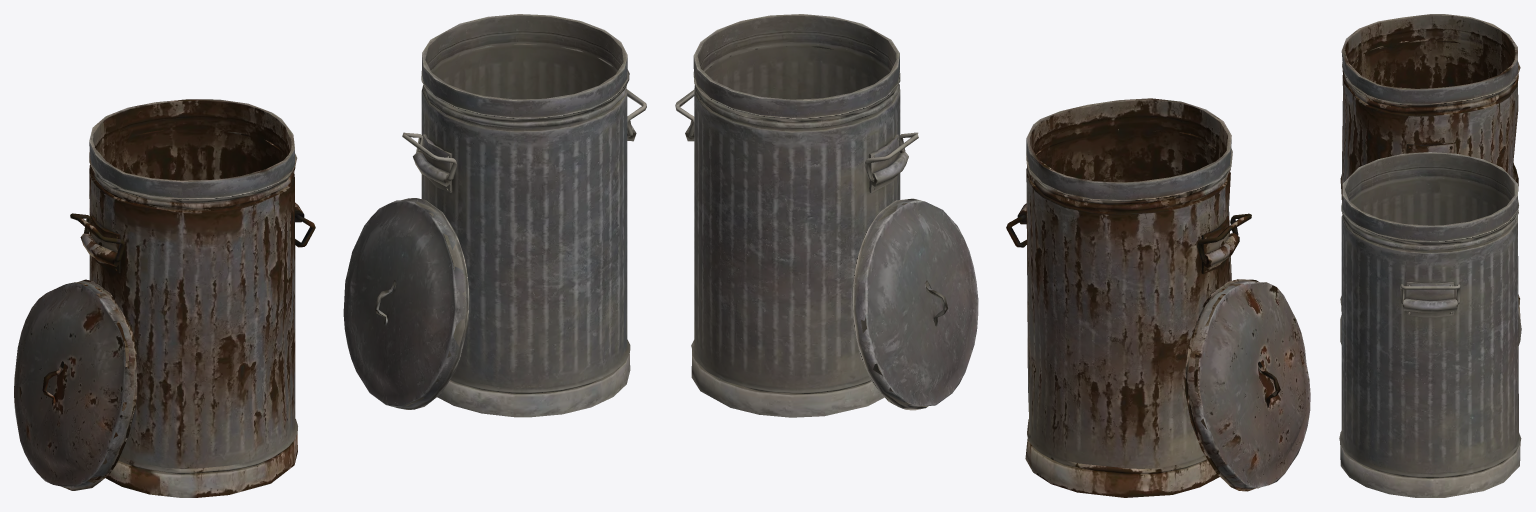
The model's file is metal_trash_can.lite.glb.
3 views of the same model, side by side, from view 1: azimuth 30°, elevation 25°; view 2: azimuth 150°, elevation 25°; view 3: azimuth 270°, elevation 25° (orthographic). The views are drawn at different scales.
Visible parts, largest first — view 1: metal_trash_can_handle_left, metal_trash_can_rust; view 2: metal_trash_can_handle_left, metal_trash_can_rust; view 3: metal_trash_can_handle_left, metal_trash_can_rust.
Boxes of the visible parts, <box> form: metal_trash_can_handle_left: <box>343,14,646,417</box>; metal_trash_can_rust: <box>14,99,315,497</box>; metal_trash_can_handle_left: <box>675,14,978,417</box>; metal_trash_can_rust: <box>1006,98,1310,497</box>; metal_trash_can_handle_left: <box>1339,152,1521,497</box>; metal_trash_can_rust: <box>1340,14,1520,319</box>.
Bounding box in the file's own units: 1.78 × 0.9062 × 0.5533.
Materials: 2 (2 with a texture image).
